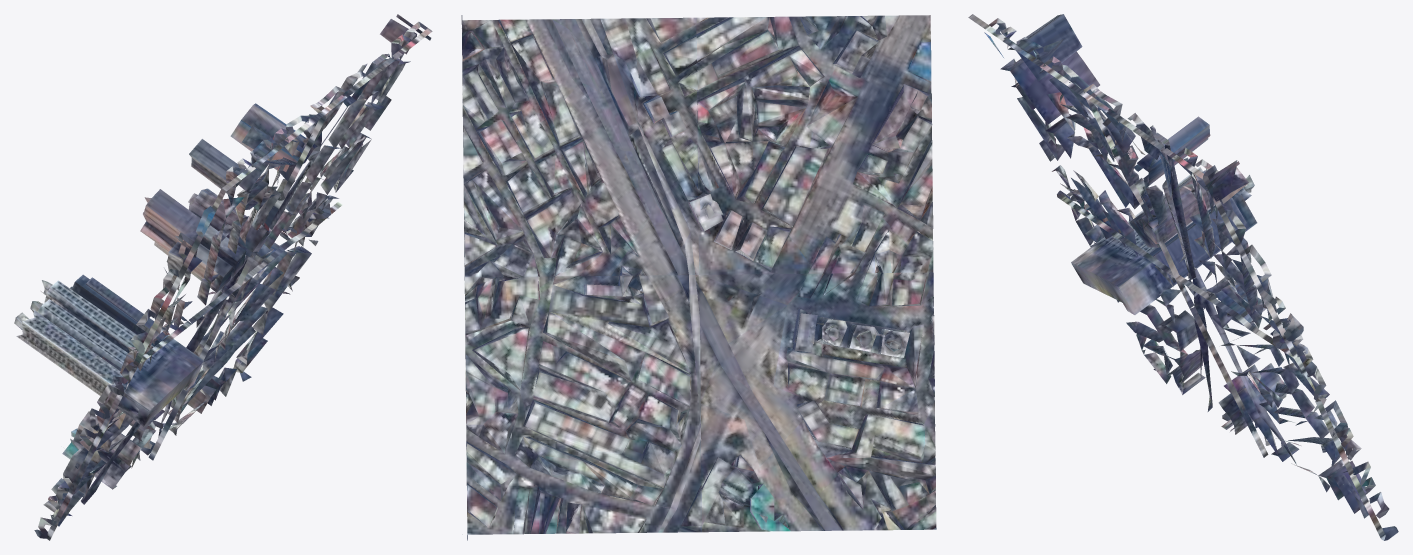
3 views of the same model, side by side, from view 1: azimuth 30°, elevation 25°; view 2: azimuth 150°, elevation 25°; view 3: azimuth 270°, elevation 25° (orthographic). The views are drawn at different scales.
Size of the model in its own units: 619 by 576 by 531.
Materials: 2 (2 with a texture image).
